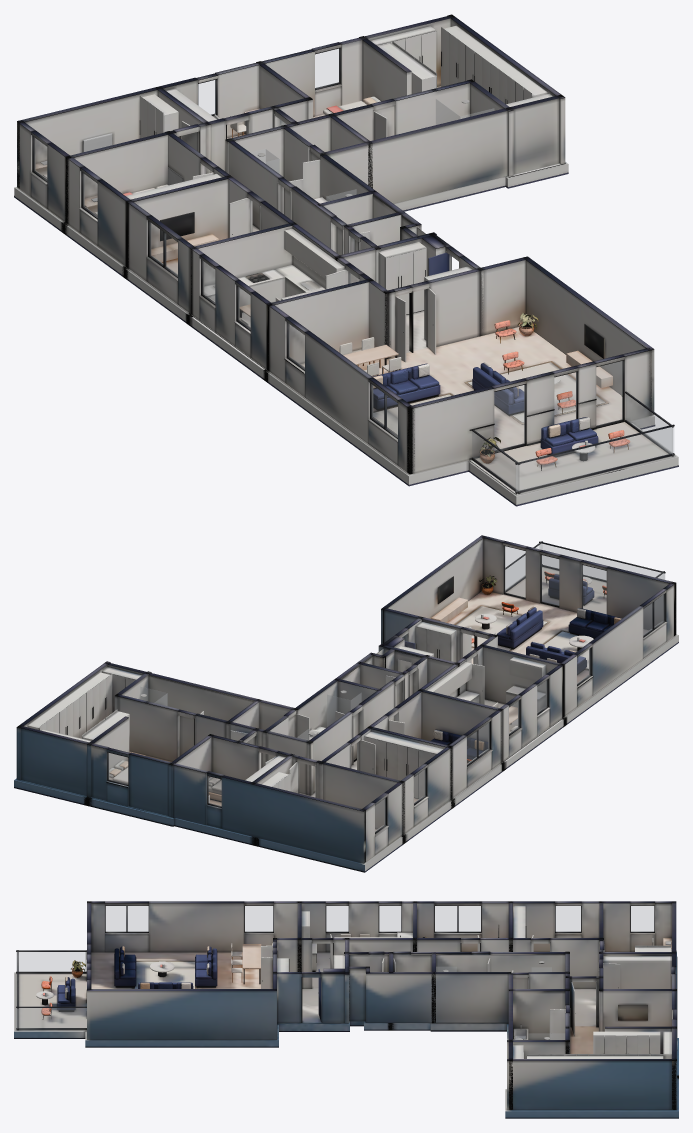
3 views of the same model, one above another, from view 1: azimuth 30°, elevation 25°; view 2: azimuth 150°, elevation 25°; view 3: azimuth 270°, elevation 25° (orthographic). The views are drawn at different scales.
Parts seen in each view (by area): view 1: plan, railg3_m, glass9_m, glass11_m, railg4_m, railg5_m, glass10_m, glass2_m, glass8_m, glass6_m; view 2: plan, railg3_m, glass9_m, glass11_m, glass10_m, glass2_m, glass6_m, glass8_m; view 3: plan, railg5_m, railg4_m, glass2_m, glass6_m, glass5_m, glass1_m, glass0_m, glass4_m, glass3_m.
Part boxes in pixels (left/top/right/bottom): plan: left=14, top=14, right=678, bottom=506; railg3_m: left=516, top=427, right=673, bottom=491; glass9_m: left=494, top=385, right=524, bottom=450; glass11_m: left=596, top=361, right=622, bottom=425; railg4_m: left=472, top=431, right=519, bottom=491; railg5_m: left=626, top=394, right=672, bottom=453; glass10_m: left=554, top=372, right=576, bottom=423; glass2_m: left=149, top=222, right=177, bottom=275; glass8_m: left=315, top=49, right=339, bottom=88; glass6_m: left=371, top=384, right=397, bottom=436; plan: left=14, top=535, right=678, bottom=872; railg3_m: left=540, top=544, right=664, bottom=579; glass9_m: left=582, top=565, right=606, bottom=613; glass11_m: left=505, top=546, right=525, bottom=597; glass10_m: left=541, top=555, right=558, bottom=605; glass2_m: left=467, top=722, right=489, bottom=764; glass6_m: left=643, top=594, right=664, bottom=635; glass8_m: left=108, top=753, right=127, bottom=784; plan: left=14, top=901, right=678, bottom=1118; railg5_m: left=16, top=1008, right=86, bottom=1027; railg4_m: left=16, top=952, right=86, bottom=971; glass2_m: left=435, top=906, right=480, bottom=931; glass6_m: left=106, top=906, right=148, bottom=931; glass5_m: left=245, top=906, right=272, bottom=931; glass1_m: left=556, top=906, right=580, bottom=931; glass0_m: left=631, top=906, right=653, bottom=931; glass4_m: left=326, top=906, right=348, bottom=931; glass3_m: left=379, top=906, right=400, bottom=931.
Size of the model in its own units: 15.86 by 2.62 by 27.7.
Materials: 2 (1 with a texture image).
